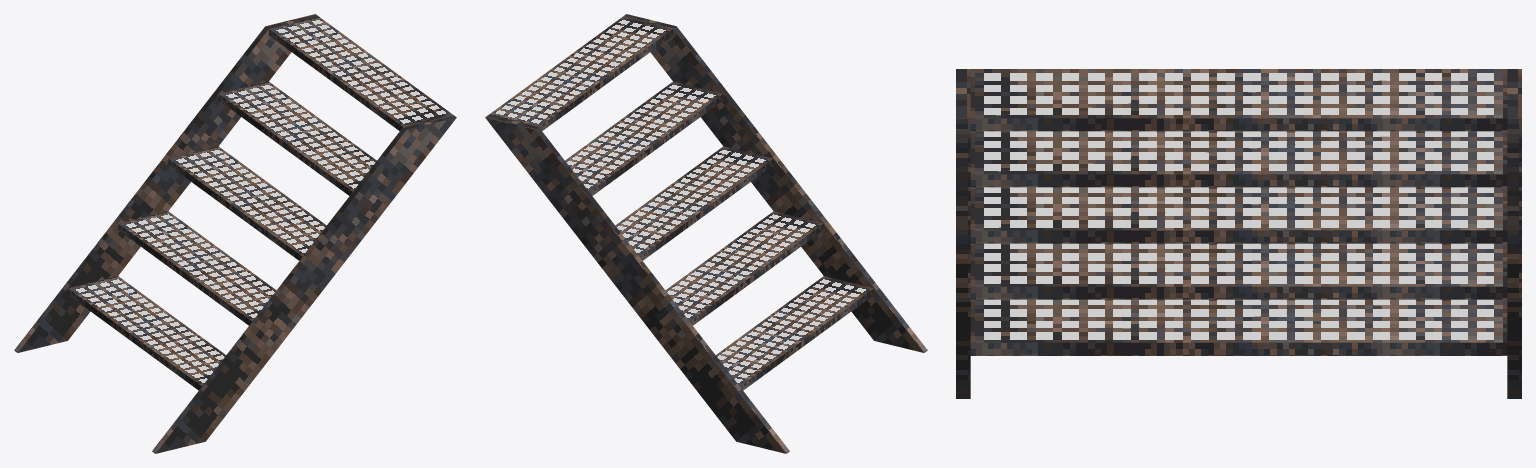
File: Stairs.glb
The picture shows the model from 3 angles, left to right: view 1: azimuth 30°, elevation 25°; view 2: azimuth 150°, elevation 25°; view 3: azimuth 270°, elevation 25°; orthographic projection. The views are drawn at different scales.
Visible parts, largest first — view 1: Stairs; view 2: Stairs; view 3: Stairs.
Part boxes in pixels (box(x1,y1,x2,y2)): Stairs: box(14, 14, 456, 453); Stairs: box(485, 14, 927, 453); Stairs: box(956, 69, 1521, 398).
Size of the model in its own units: 1.2 by 1 by 0.975.
1 material, 1 textured.
